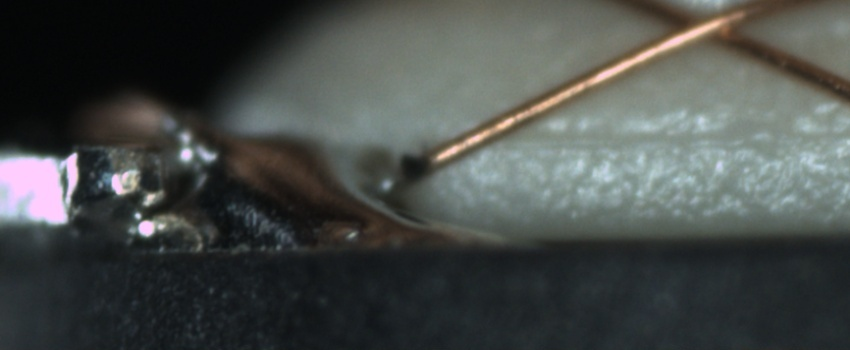CL: (638, 3, 762, 55)
DL: (489, 105, 846, 178)
TE: (77, 90, 181, 134)
